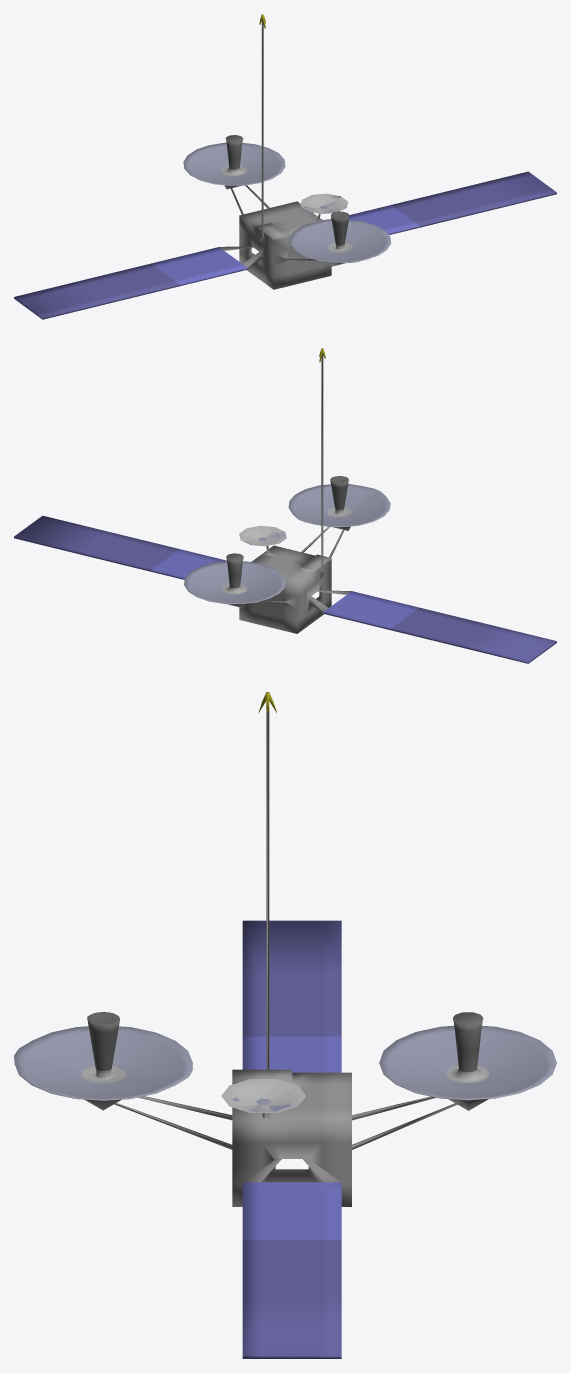
The model's file is TADR.glb.
3 views of the same model, one above another, from view 1: azimuth 30°, elevation 25°; view 2: azimuth 150°, elevation 25°; view 3: azimuth 270°, elevation 25° (orthographic). The views are drawn at different scales.
Parts seen in each view (by area): view 1: polySurface5, transform8; view 2: polySurface5, transform8; view 3: polySurface5, transform8.
Boxes of the visible parts, x1,y1,x2,y2 form: polySurface5: (14,14,556,319); transform8: (300,193,348,219); polySurface5: (14,348,556,663); transform8: (239,525,286,551); polySurface5: (14,692,556,1358); transform8: (221,1079,305,1116).
Size of what is drawn, in the model's own units: 0.8866 by 0.4489 by 0.4676.
